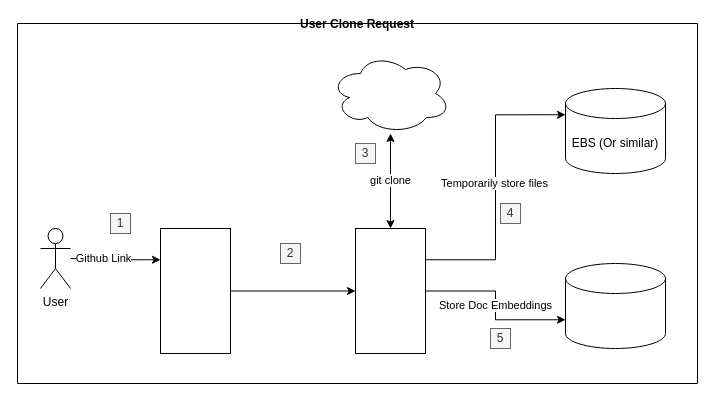
This 715x401 diagram has some shape labels left out. Each missing label, with the box of its shape:
API: (354, 228, 426, 354)
Github: (330, 52, 450, 134)
VectorDB: (564, 262, 666, 348)
Web UI: (160, 228, 230, 354)
